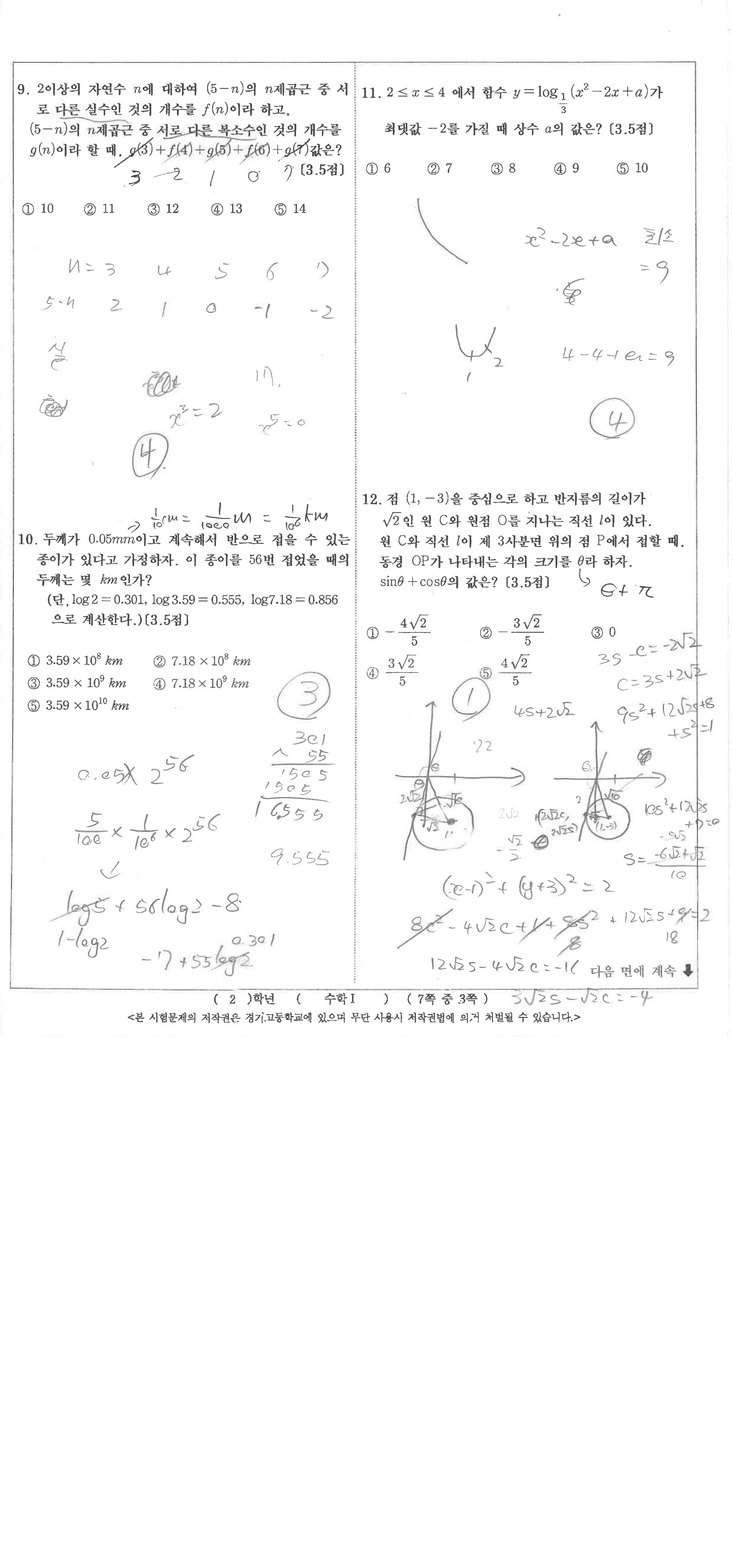problem: (16, 519, 353, 723), (358, 484, 688, 691), (14, 72, 352, 233), (360, 78, 683, 187)
